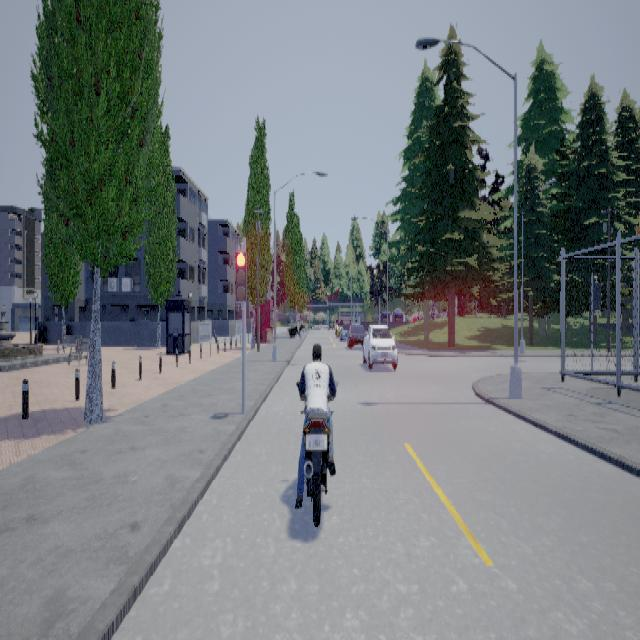red_light: (237, 241, 248, 310)
vehicle: (294, 338, 340, 529), (361, 318, 399, 371)
